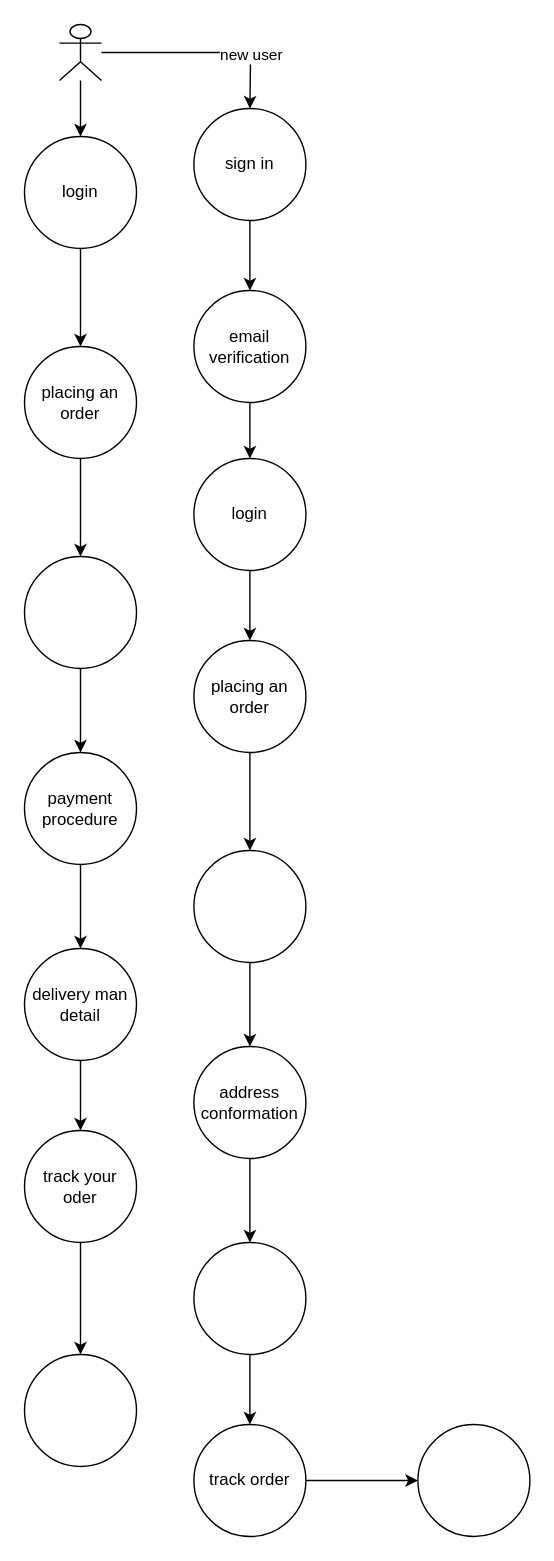
The diagram is 554 pixels wide and 1561 high, and some of its shapes have lost their labels. The shapes that lost their labels are listed below. From the top down, each one's centre as x and y in pixels, then its label:
[80,51]: user
[79,611]: applying coupon
[249,905]: applying coupons for first order
[249,1297]: delivery man details
[79,1409]: food delivered successfully
